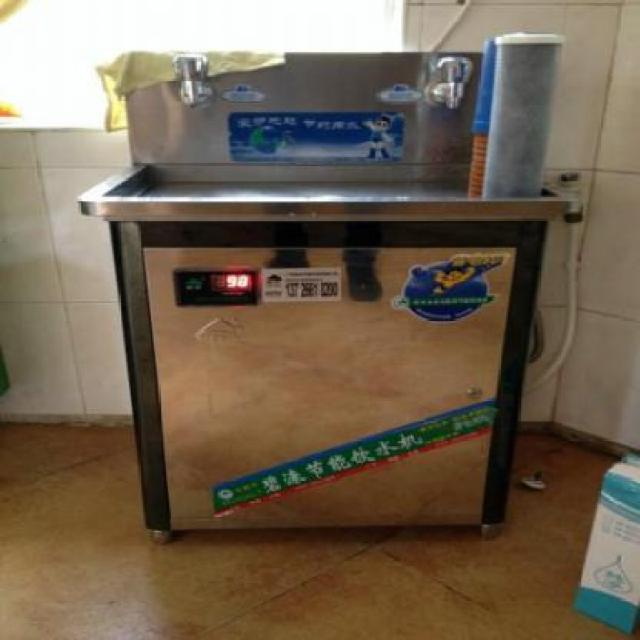cooler: (71, 31, 586, 553)
